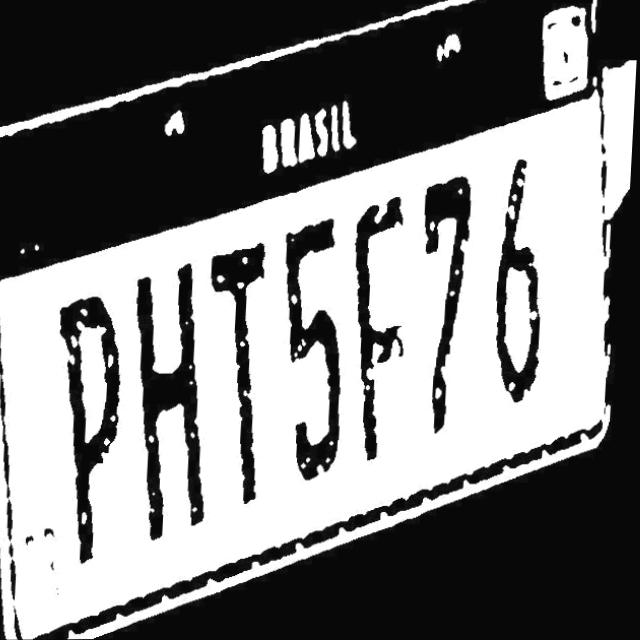5: (280, 215, 352, 494)
6: (489, 156, 562, 413)
7: (410, 173, 492, 440)
f: (346, 195, 414, 476)
h: (119, 264, 218, 551)
p: (50, 286, 130, 567)
t: (203, 239, 277, 520)
